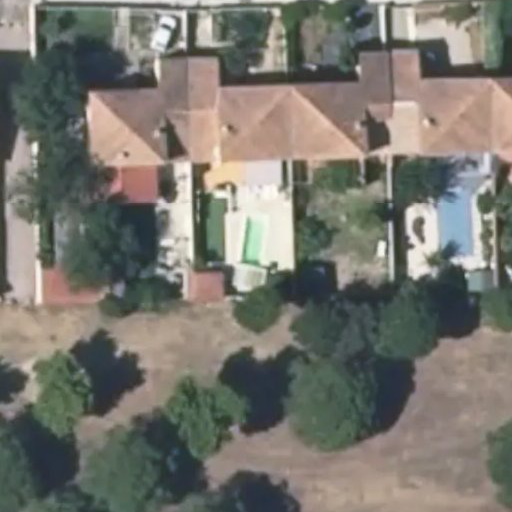pool: (428, 177, 481, 264), (242, 214, 268, 272)
